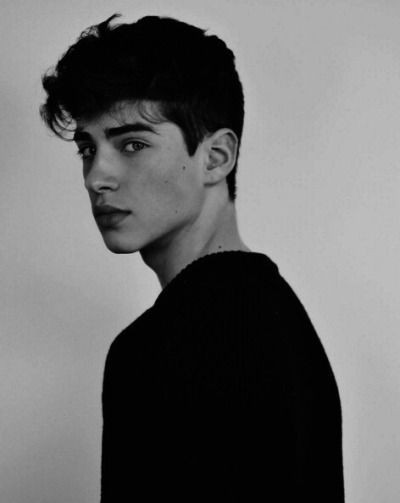BOY: (43, 26, 238, 252)
